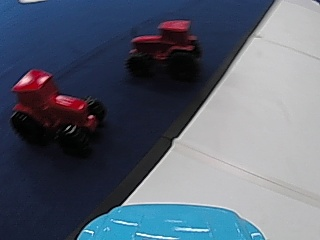tractor: (7, 62, 106, 157), (126, 14, 203, 82)
